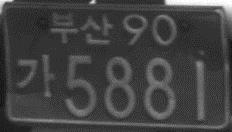0: (150, 11, 177, 46)
1: (194, 57, 208, 123)
5: (62, 54, 97, 119)
8: (142, 57, 178, 122), (102, 55, 137, 120)
9: (121, 10, 148, 46)
가: (14, 52, 56, 100)
부산_O: (49, 10, 114, 47)
